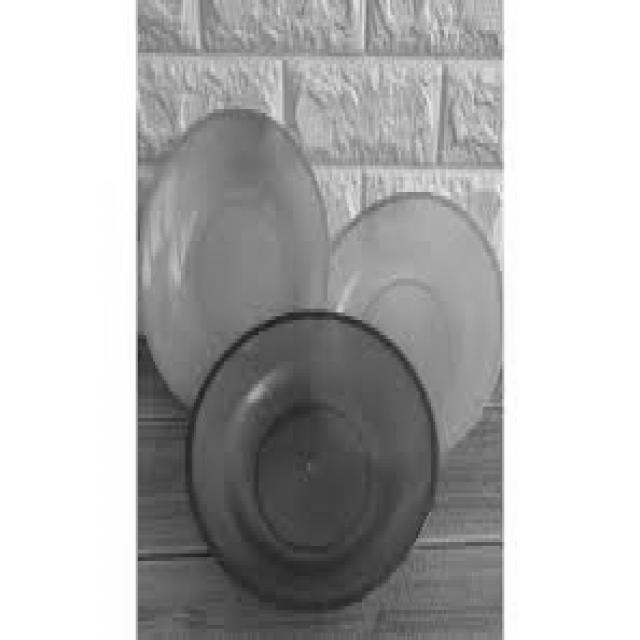dish: (126, 40, 521, 626)
